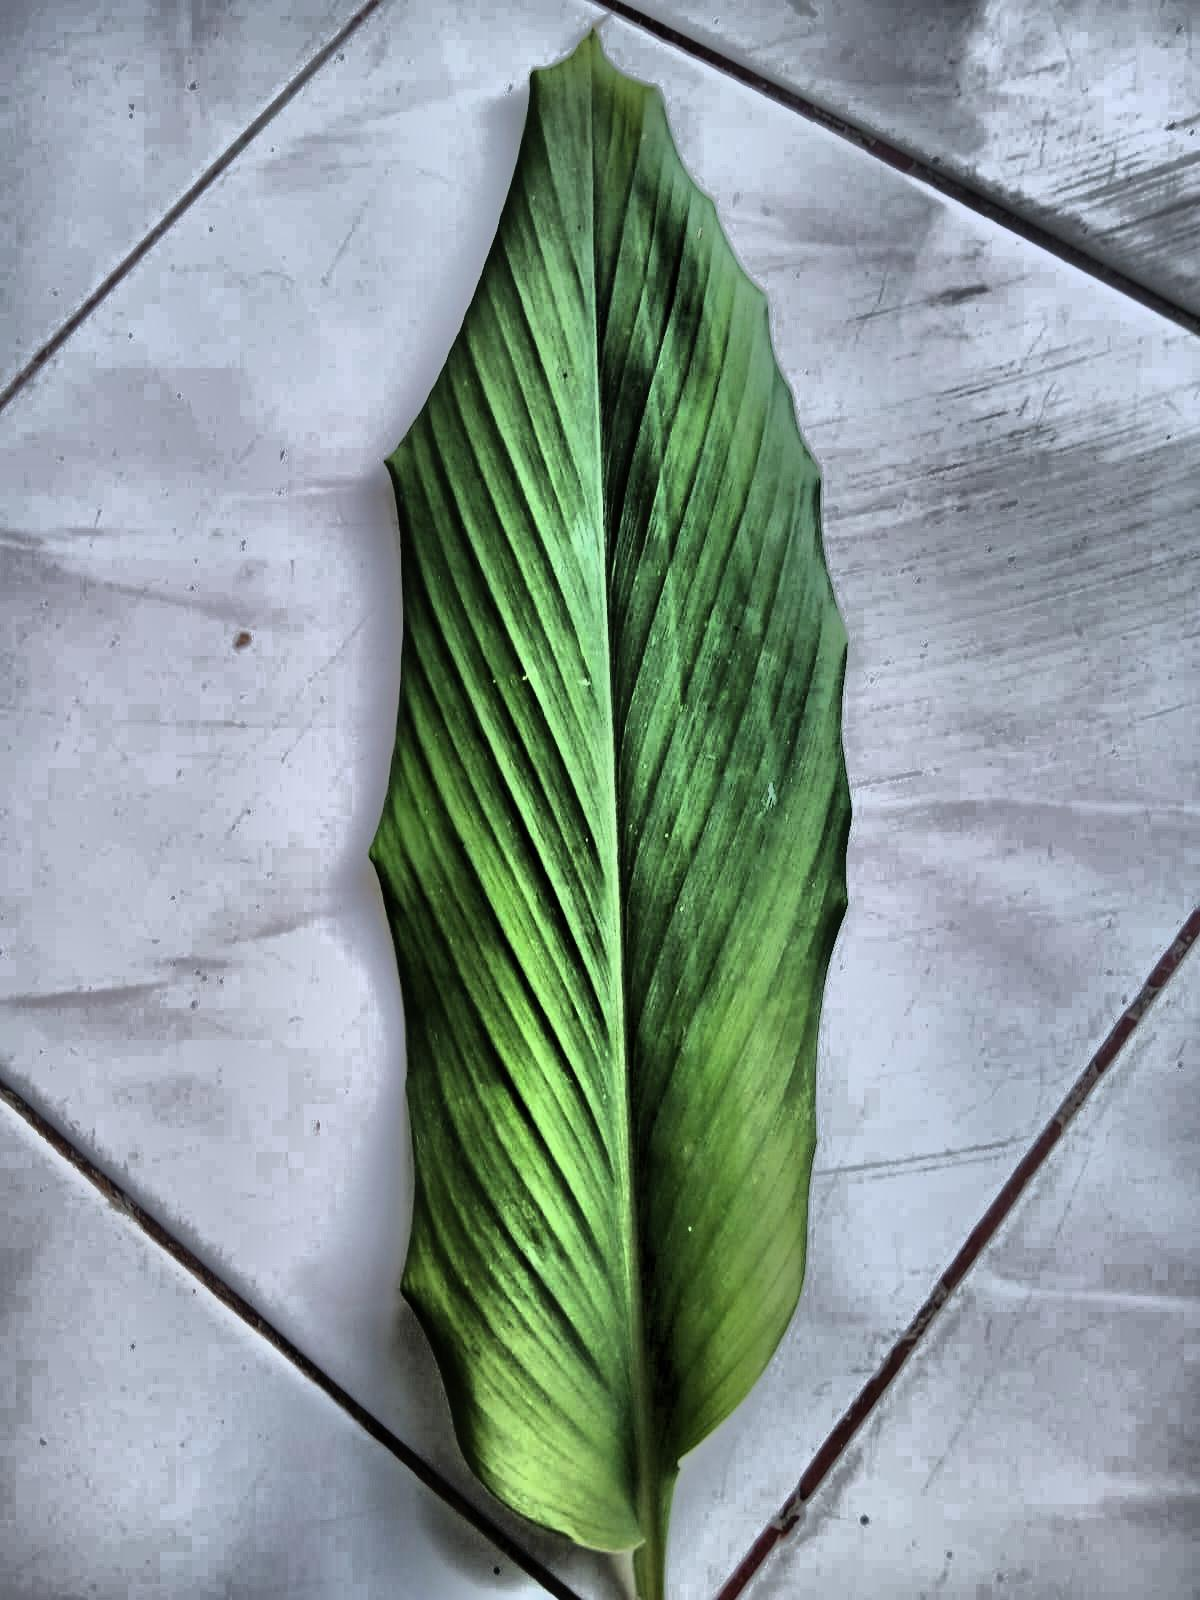daun kunyit: (371, 37, 850, 1599)
